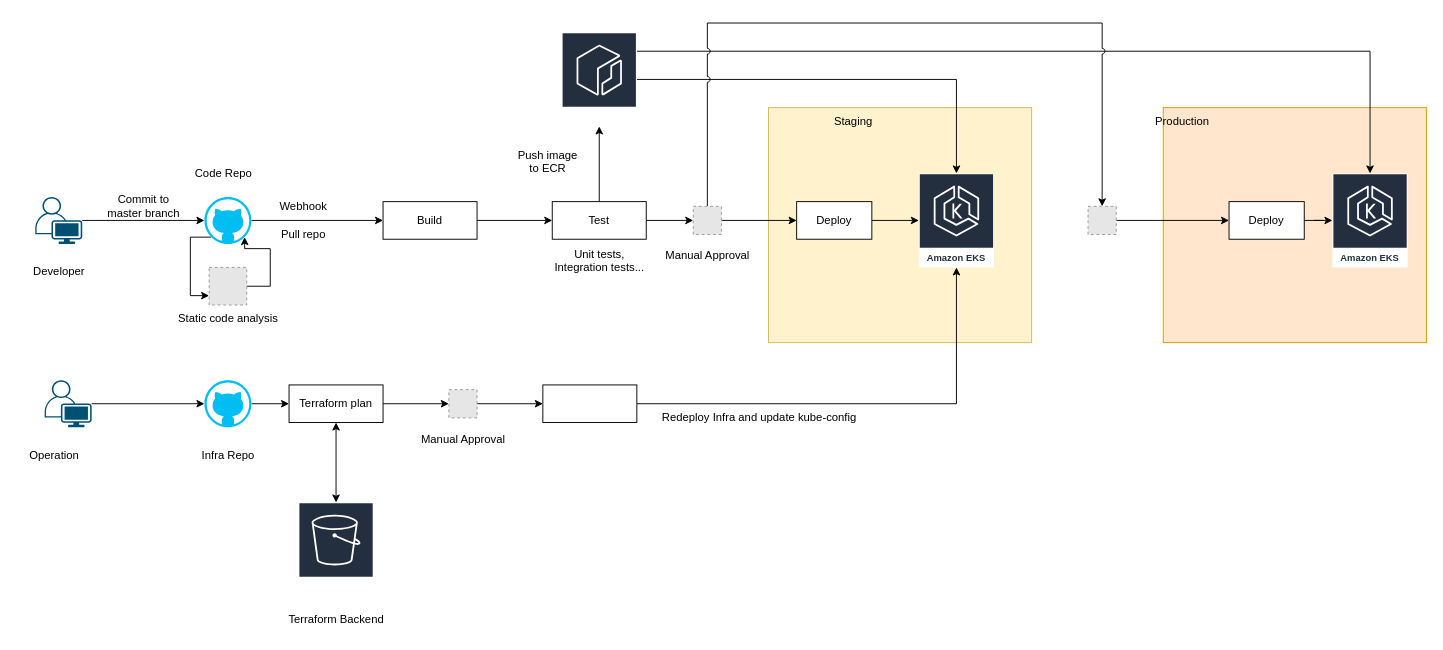
The diagram is 1443 pixels wide and 650 high, and some of its shapes have lost their labels. Grey dashed boxes stand in for pictures. The shapes that lost their labels are listed below. From the top down, each one's centre as x and y in pixels, then its label:
At point 599,78: "Amazon ECR".
At point 589,403: "Terraform apply".
At point 336,548: "Amazon S3".
